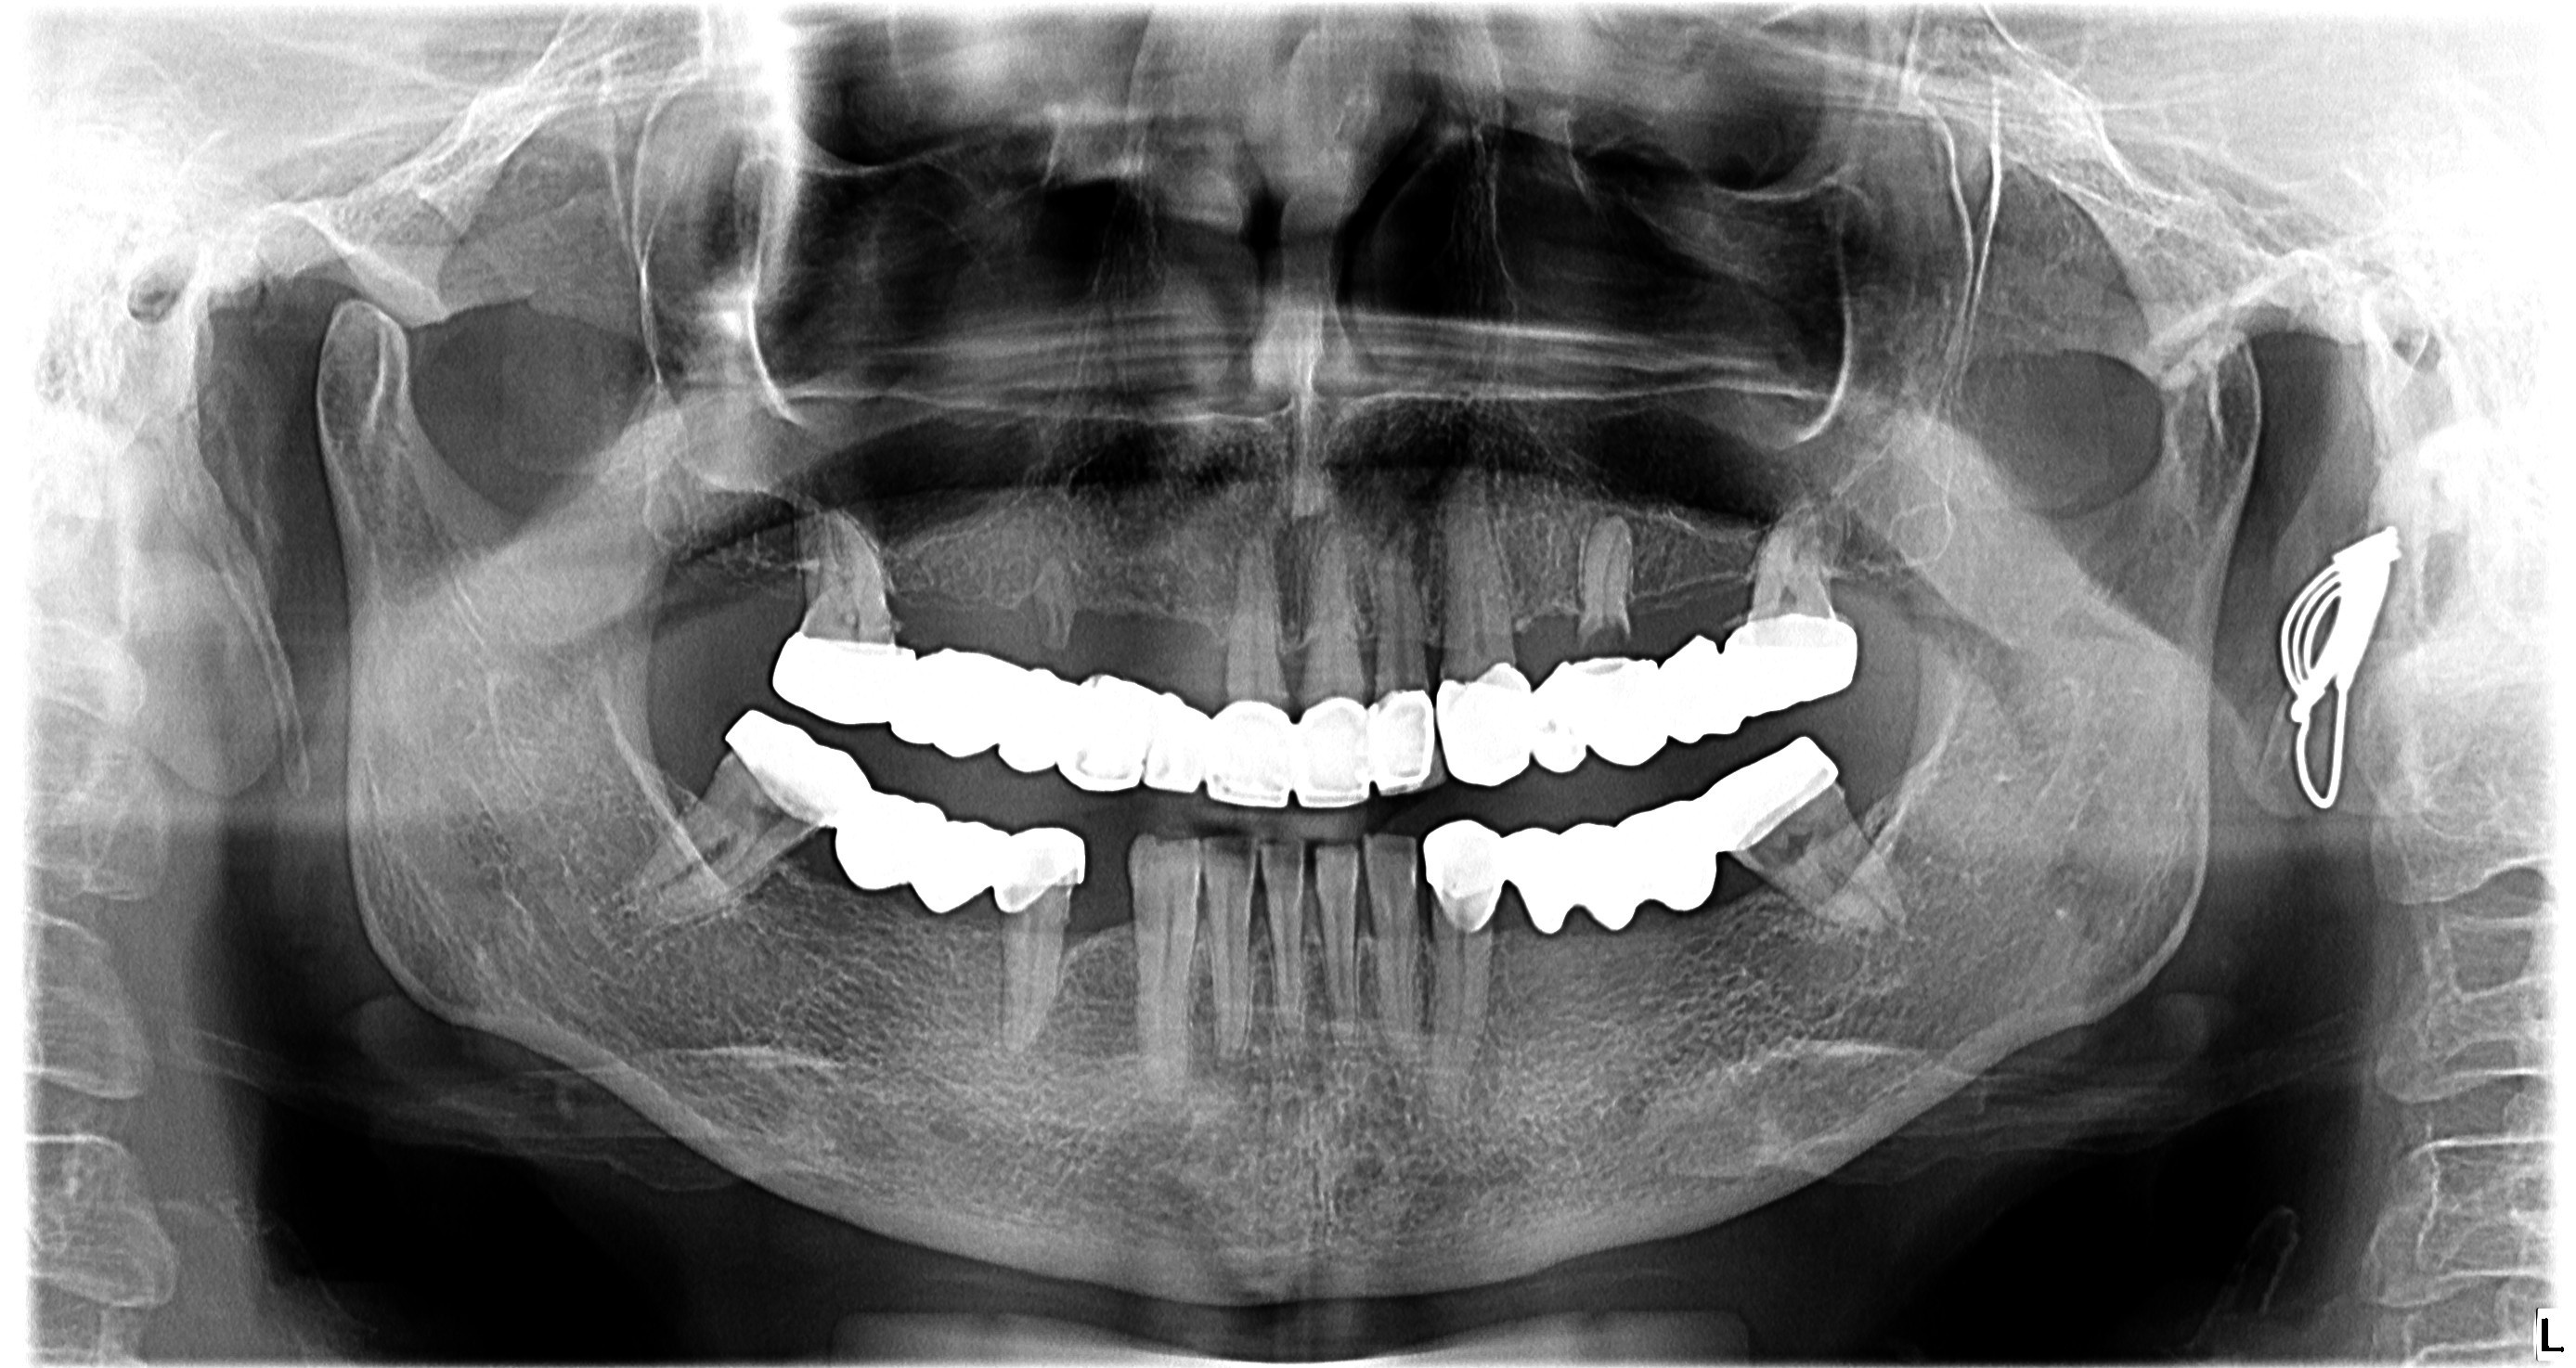BON: (1097, 581, 1230, 664), (1665, 843, 1782, 934), (1041, 884, 1140, 976), (1489, 593, 1600, 664), (1641, 560, 1765, 622)
PRR: (1211, 680, 1428, 818), (1498, 808, 1722, 939), (1021, 670, 1213, 799), (680, 707, 862, 833), (1433, 652, 1590, 790), (830, 792, 1000, 917), (1584, 630, 1733, 772), (1726, 605, 1869, 733), (1714, 727, 1849, 852), (889, 642, 1022, 763), (775, 625, 911, 726), (1406, 809, 1498, 940), (993, 821, 1102, 911)
ROT: (1566, 503, 1644, 658), (1021, 543, 1092, 668)
